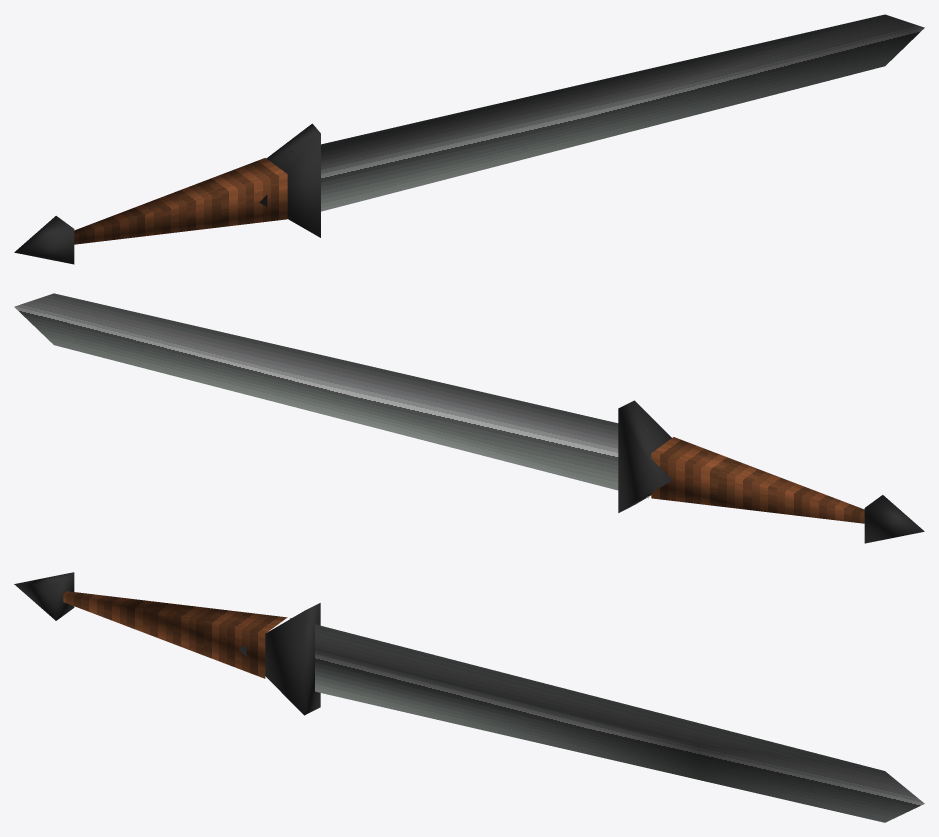
3 views of the same model, one above another, from view 1: azimuth 30°, elevation 25°; view 2: azimuth 150°, elevation 25°; view 3: azimuth 330°, elevation 25° (orthographic).
Parts seen in each view (by area): view 1: it58; view 2: it58; view 3: it58.
Boxes of the visible parts, left/top/right/bottom form: it58: left=14, top=14, right=924, bottom=264; it58: left=14, top=293, right=924, bottom=543; it58: left=14, top=572, right=924, bottom=822.
Bounding box in the file's own units: 2.59 × 0.2845 × 0.1487.
3 materials, 3 textured.
